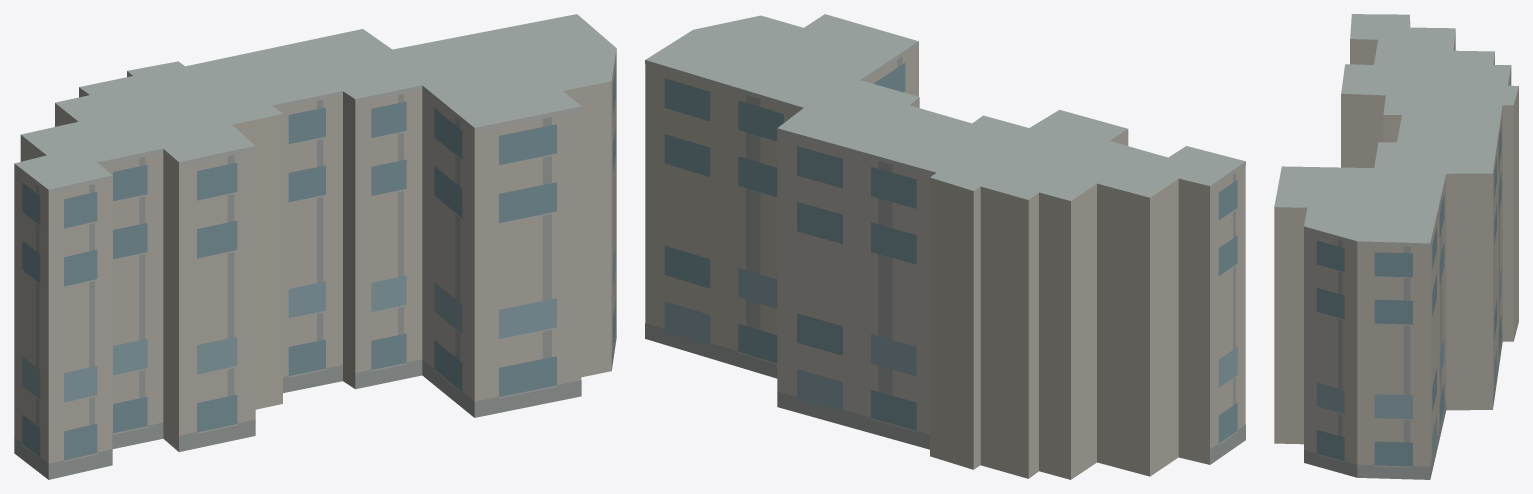
File: survey-upis-32687215.glb
The picture shows the model from 3 angles, left to right: view 1: azimuth 30°, elevation 25°; view 2: azimuth 150°, elevation 25°; view 3: azimuth 270°, elevation 25°; orthographic projection. The views are drawn at different scales.
Parts seen in each view (by area): view 1: survey-upis-32687215.tmp; view 2: survey-upis-32687215.tmp; view 3: survey-upis-32687215.tmp.
Boxes of the visible parts, box(x1,y1,x2,y2) form: survey-upis-32687215.tmp: box(14, 14, 616, 479); survey-upis-32687215.tmp: box(645, 14, 1245, 479); survey-upis-32687215.tmp: box(1274, 14, 1518, 479).
Size of the model in its own units: 31.84 by 15.3 by 14.35.
